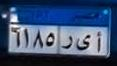1: (23, 28, 30, 49)
5: (45, 32, 57, 48)
6: (10, 26, 22, 49)
8: (32, 27, 44, 49)
alif: (94, 30, 103, 54)
raa: (61, 32, 74, 52)
yaa: (75, 33, 91, 53)
